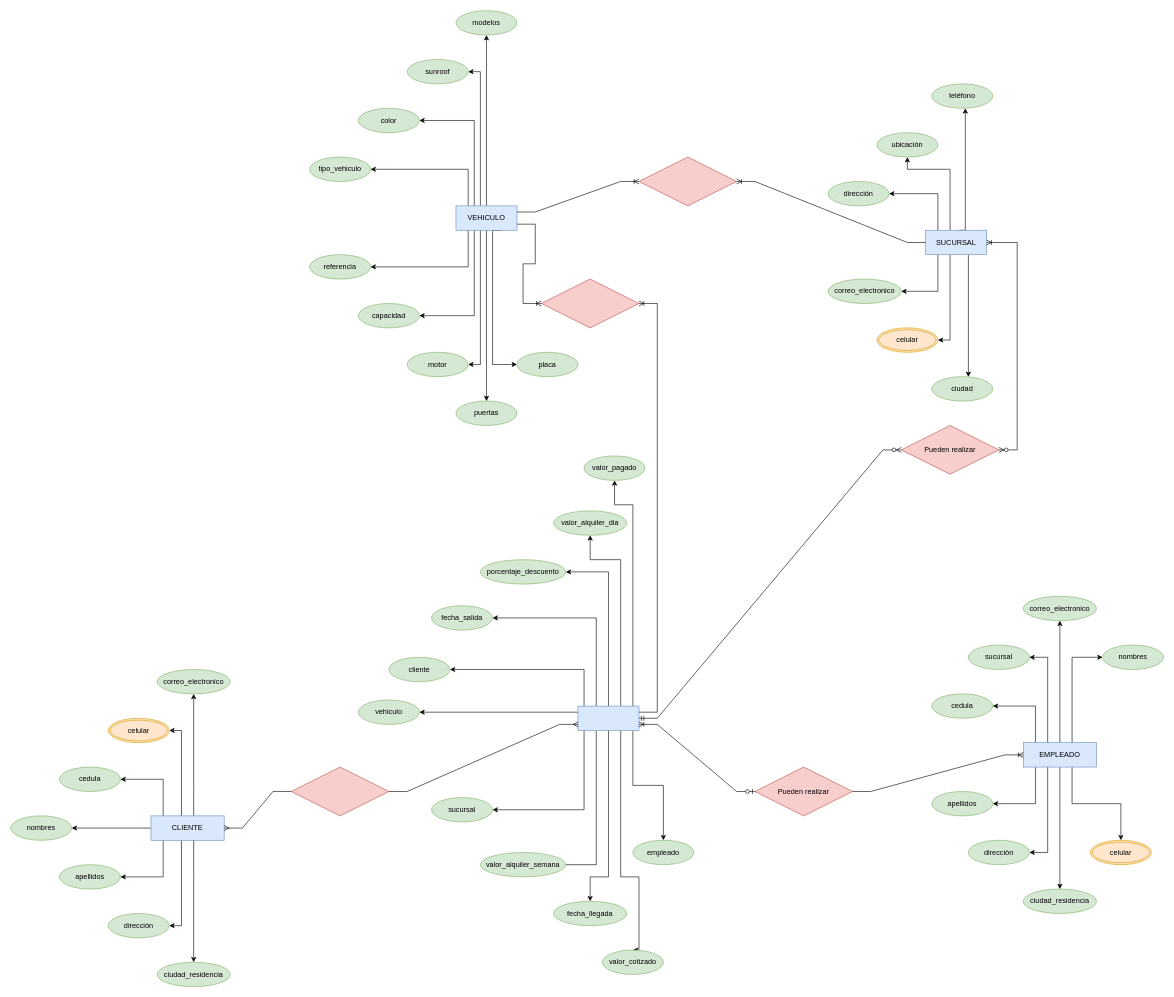
This 1174x997 diagram has some shape labels left out. Here are the shapes that lost their labels. From the top down, the box of each, then its label:
(638, 156, 737, 206): puede estar
(541, 278, 639, 328): Representar un
(577, 705, 639, 730): ALQUILER
(291, 766, 389, 816): Pueden ser
